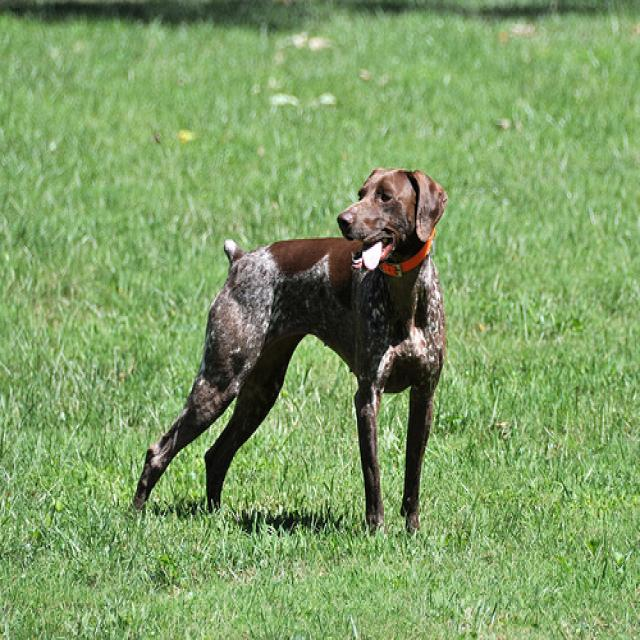dog-german_shorthaired: (124, 156, 457, 542)
